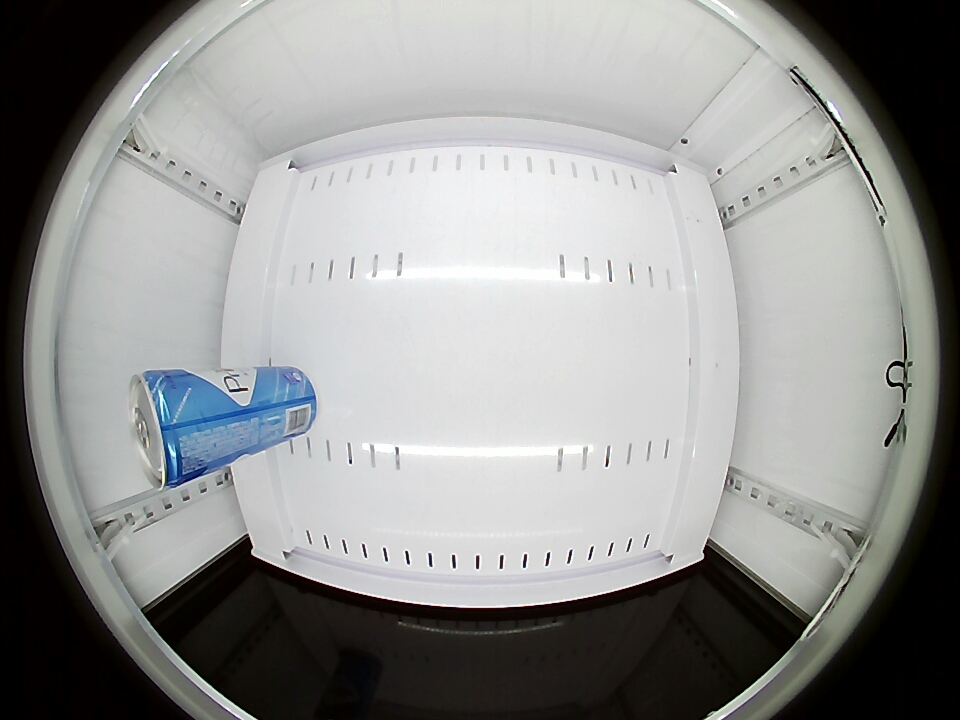qingdaowangzi-2: (129, 369, 210, 490)
